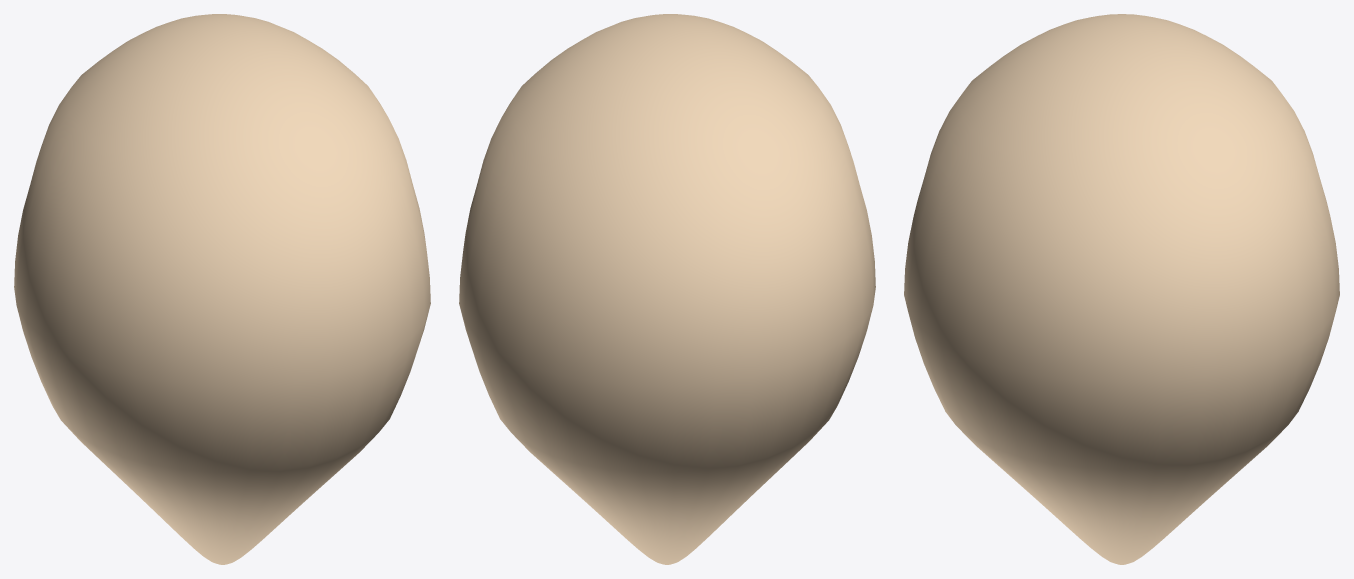
The model's file is oval.glb.
3 renders of one model, left to right at view 1: azimuth 30°, elevation 25°; view 2: azimuth 150°, elevation 25°; view 3: azimuth 270°, elevation 25°, orthographic.
Visible parts, largest first — view 1: Head_oval; view 2: Head_oval; view 3: Head_oval.
Part boxes in pixels (bbox=[...]): Head_oval: bbox=[14, 14, 430, 564]; Head_oval: bbox=[459, 14, 875, 564]; Head_oval: bbox=[904, 14, 1339, 564].
Size of the model in its own units: 1.53 by 2.2 by 1.62.
